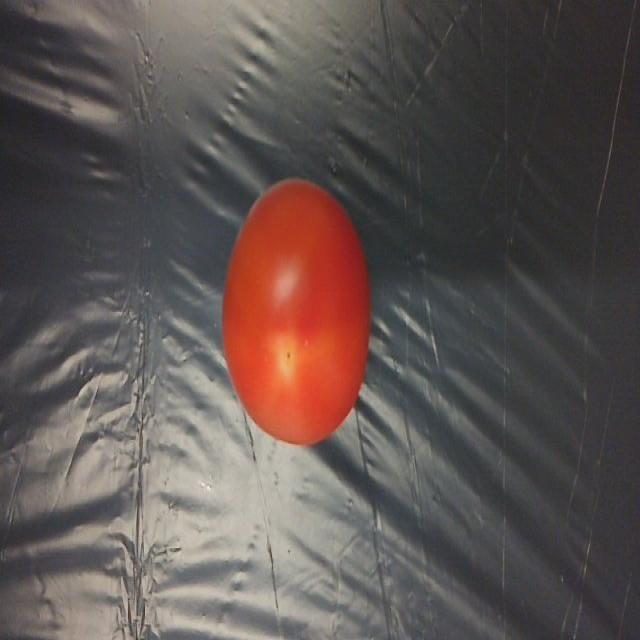sari: (208, 165, 383, 468)
